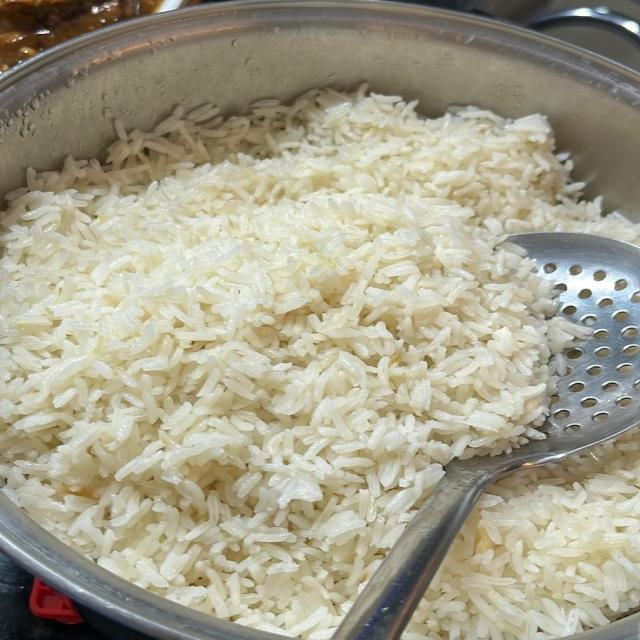rice: (0, 90, 639, 639)
